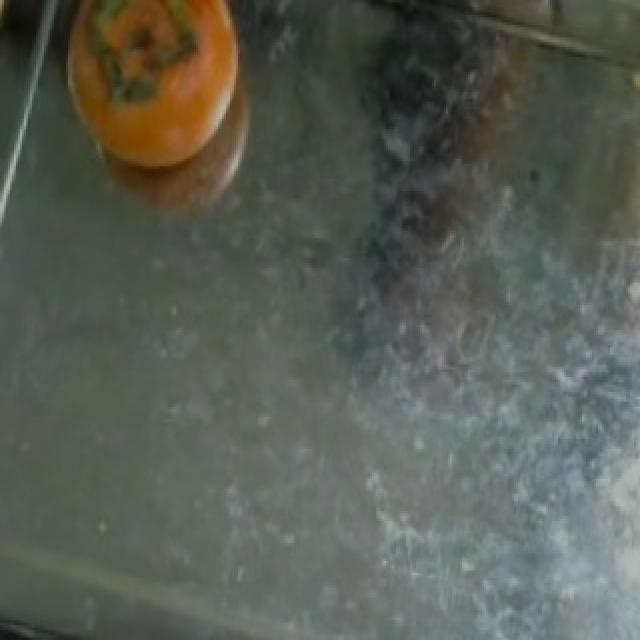Fruit: (42, 2, 270, 191), (382, 2, 596, 67)
